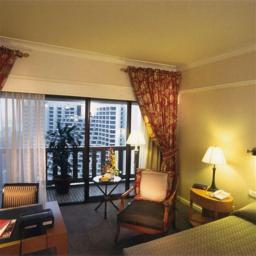Cama: (123, 198, 253, 255)
Matera: (45, 122, 82, 198)
